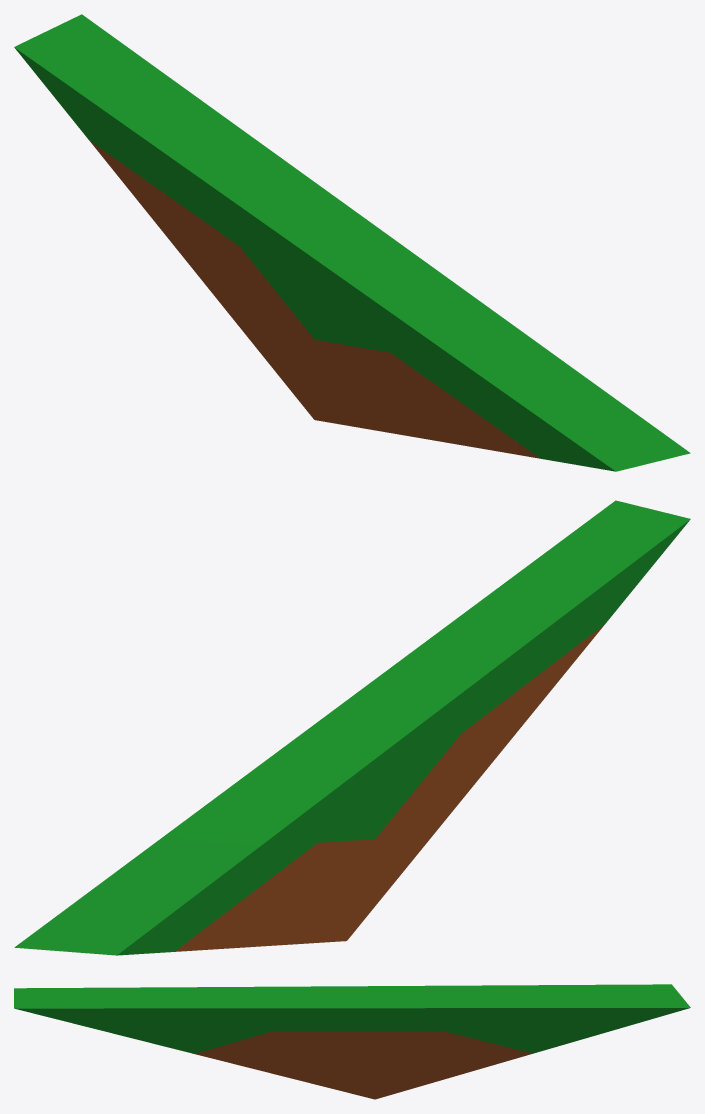
File: Platform05.fbx
3 views of the same model, one above another, from view 1: azimuth 30°, elevation 25°; view 2: azimuth 150°, elevation 25°; view 3: azimuth 270°, elevation 25° (orthographic). The views are drawn at different scales.
Parts seen in each view (by area): view 1: Cone.001; view 2: Cone.001; view 3: Cone.001.
Boxes of the visible parts, box(x1,y1,x2,y2) form: Cone.001: box(14, 14, 690, 471); Cone.001: box(14, 500, 690, 955); Cone.001: box(14, 984, 690, 1099).
Bounding box in the file's own units: 122 × 243 × 1409.
